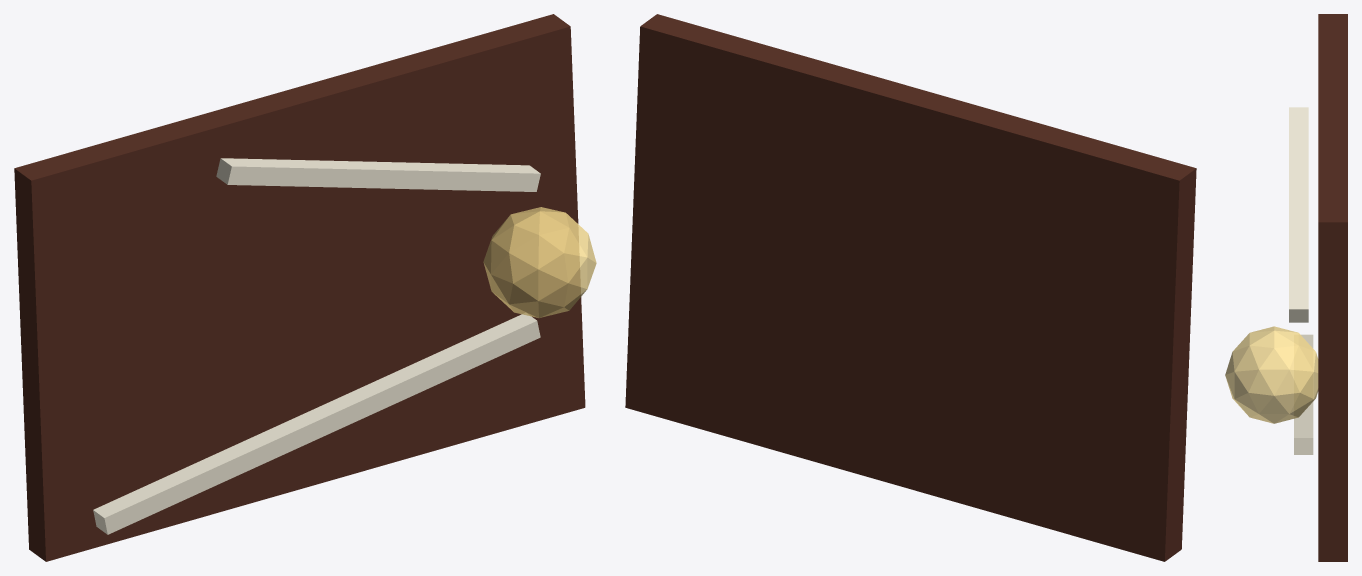
The model's file is 02_world_prop_polish.glb.
The picture shows the model from 3 angles, left to right: view 1: azimuth 30°, elevation 25°; view 2: azimuth 150°, elevation 25°; view 3: azimuth 270°, elevation 25°; orthographic projection. The views are drawn at different scales.
Visible parts, largest first — view 1: object_overlay_plate, edge_wear_a, glow_socket, edge_wear_b; view 2: object_overlay_plate; view 3: object_overlay_plate, glow_socket, edge_wear_b, edge_wear_a.
Part boxes in pixels (bbox=[...]): object_overlay_plate: bbox=[14, 14, 585, 561]; edge_wear_a: bbox=[93, 313, 540, 534]; glow_socket: bbox=[483, 207, 596, 317]; edge_wear_b: bbox=[216, 158, 540, 191]; object_overlay_plate: bbox=[625, 14, 1196, 561]; object_overlay_plate: bbox=[1318, 14, 1347, 561]; glow_socket: bbox=[1225, 326, 1318, 423]; edge_wear_b: bbox=[1289, 107, 1308, 322]; edge_wear_a: bbox=[1294, 334, 1313, 454].
Bounding box in the file's own units: 1.13 × 0.7935 × 0.25.
